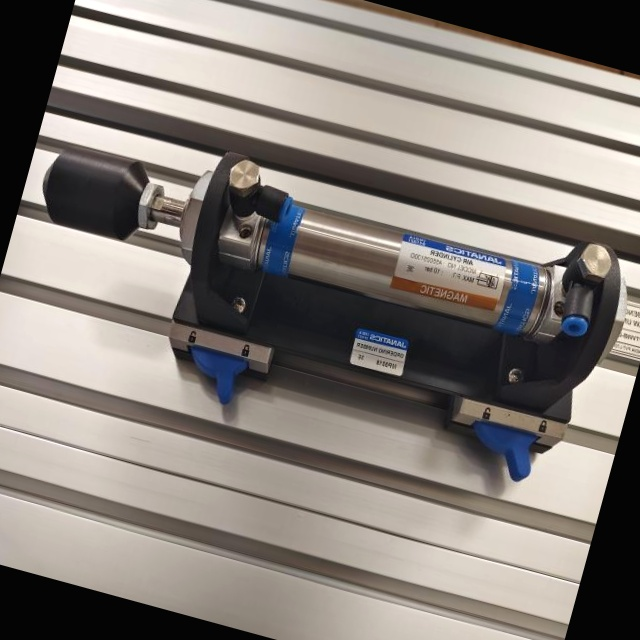double acting pneumatic cylinder: (0, 94, 640, 506)
push button: (0, 96, 640, 501)
